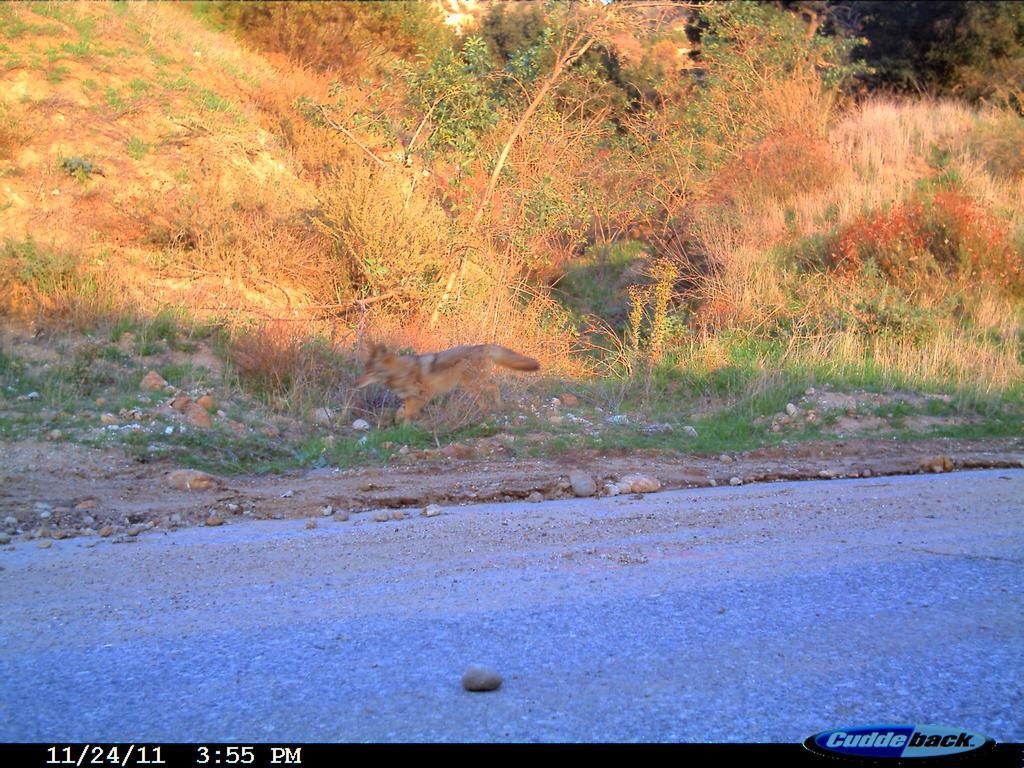coyote: (347, 328, 555, 438)
